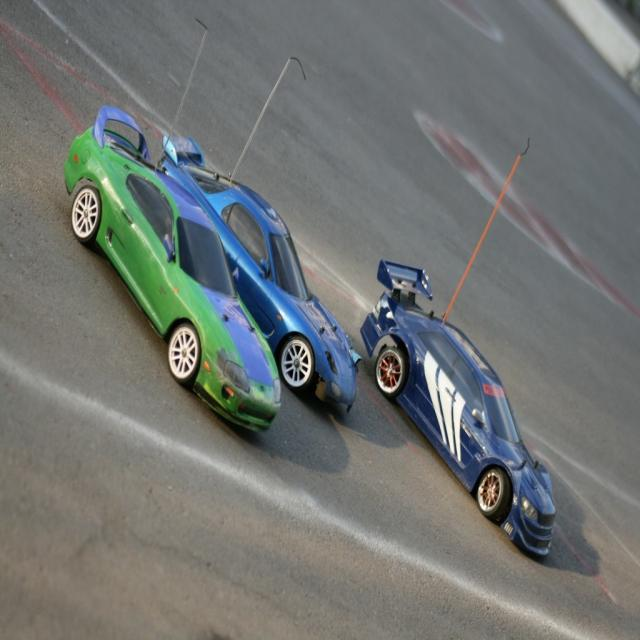car: (360, 137, 556, 558), (57, 100, 286, 427)
